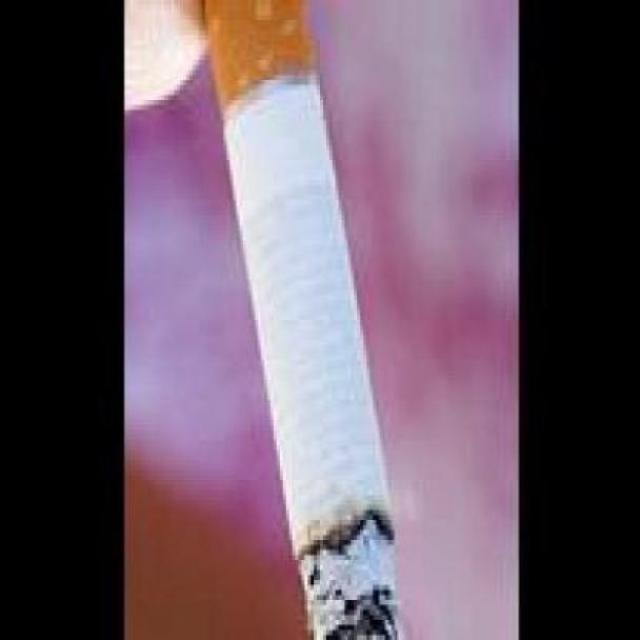rokok: (202, 0, 402, 640)
